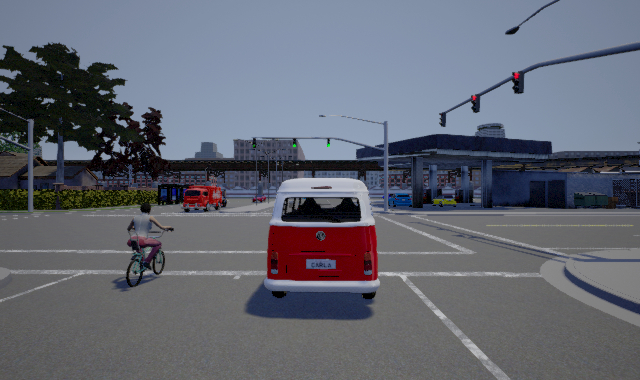bike: (126, 202, 175, 287)
traffic_light: (512, 71, 524, 94), (471, 94, 480, 113), (439, 112, 446, 127), (253, 138, 256, 148), (327, 138, 330, 147), (293, 138, 296, 147)
vehicle: (264, 178, 380, 299), (181, 186, 223, 212), (431, 194, 458, 208), (388, 193, 412, 207)
